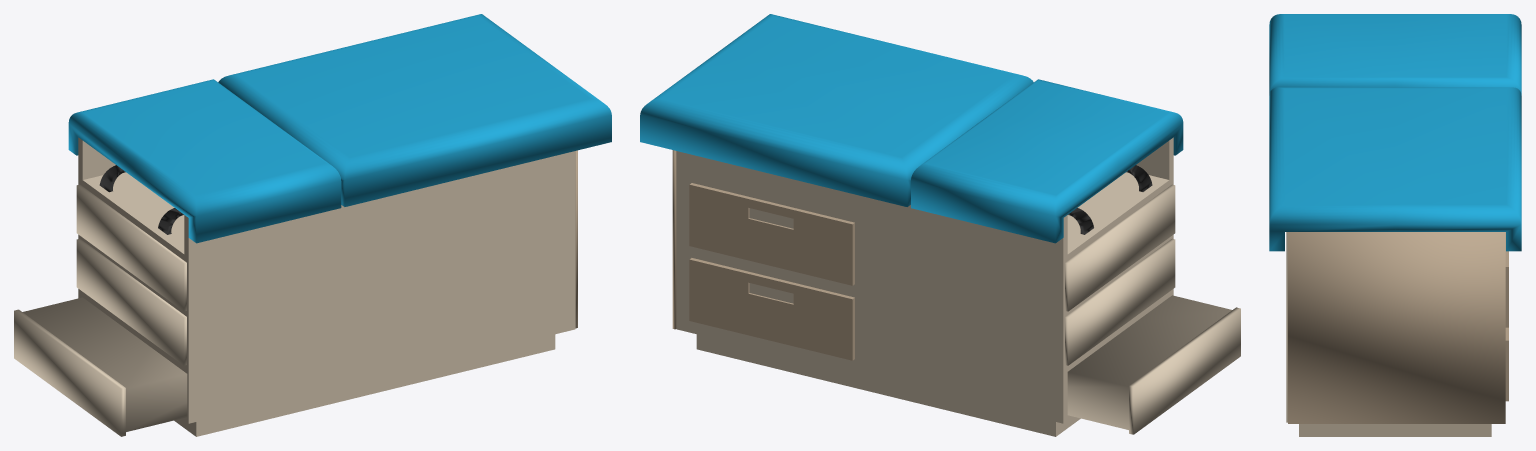
3 renders of one model, left to right at view 1: azimuth 30°, elevation 25°; view 2: azimuth 150°, elevation 25°; view 3: azimuth 270°, elevation 25°, orthographic.
Parts seen in each view (by area): view 1: MM-2; view 2: MM-2; view 3: MM-2.
Boxes of the visible parts, x1,y1,x2,y2 form: MM-2: (14,14,611,436); MM-2: (640,14,1240,436); MM-2: (1269,14,1521,436).
Size of the model in its own units: 153 by 75.74 by 70.38.
